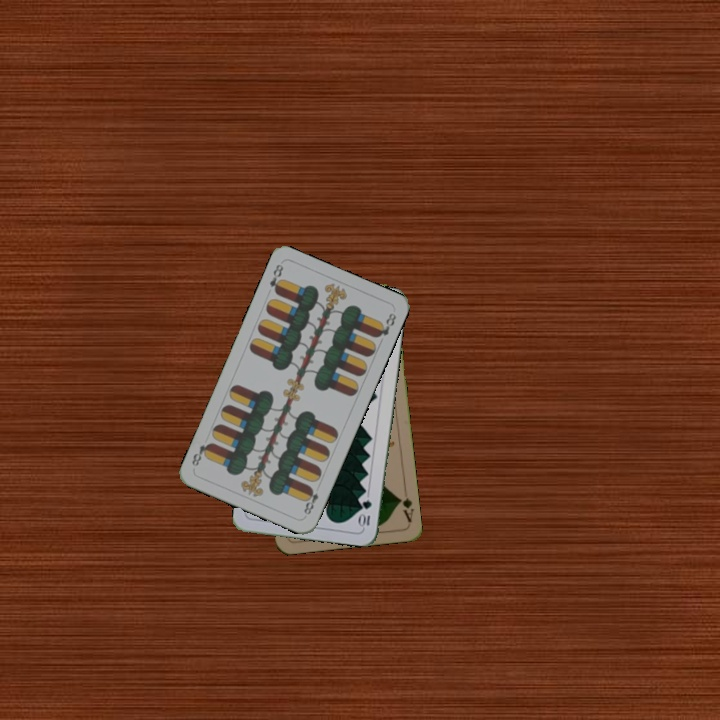E8: (265, 260, 286, 297), (300, 483, 321, 517)
G10: (356, 496, 374, 529)
GA: (395, 494, 416, 525)
